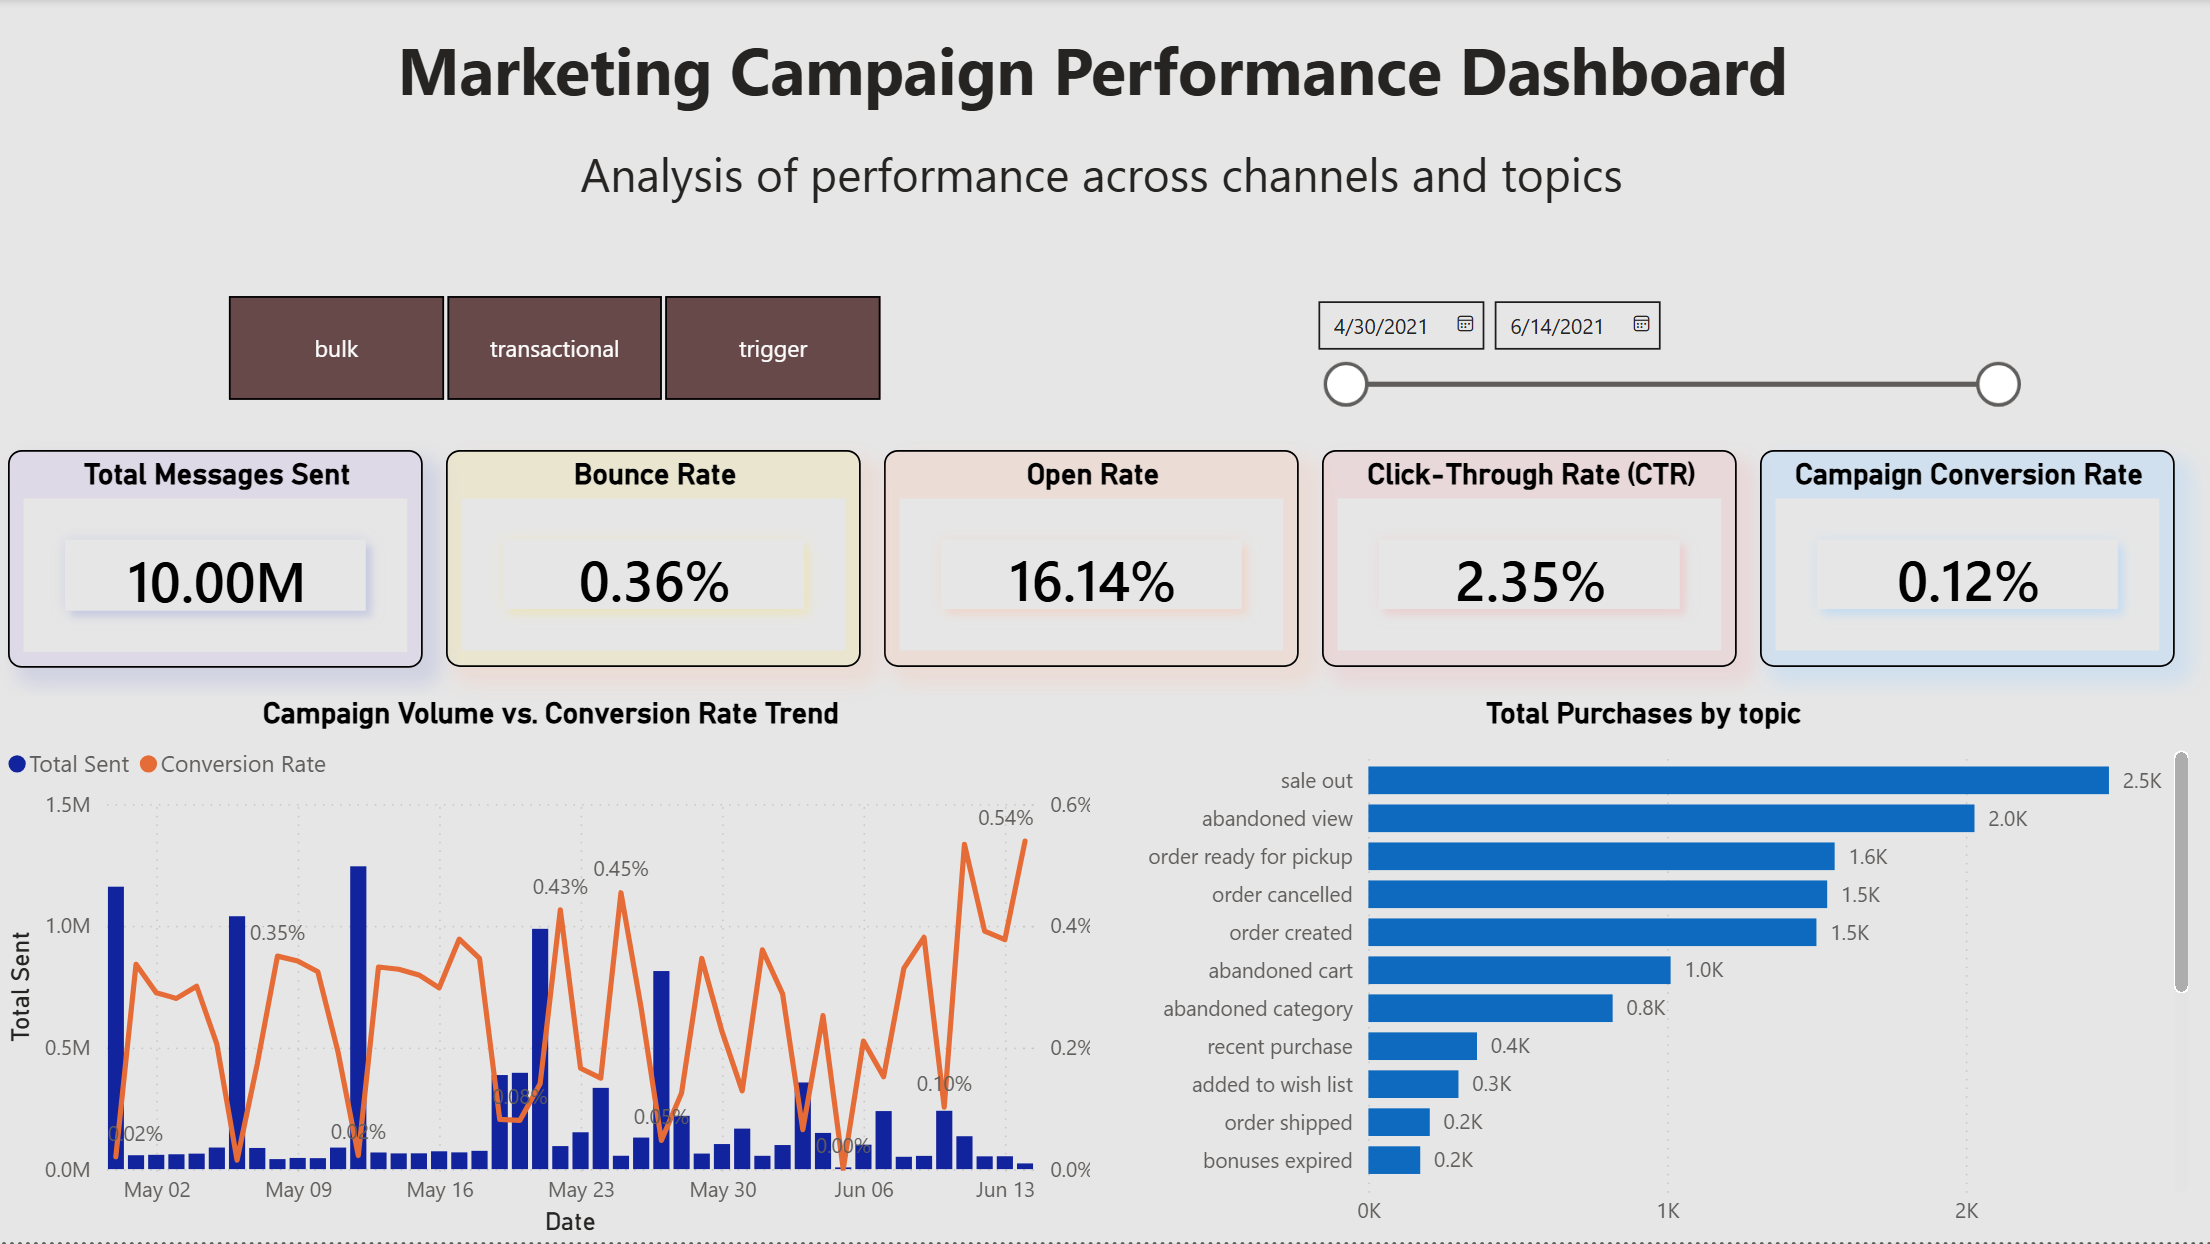

What the dashboard file says about the page in this screenshot:
{"tool":"powerbi","page":{"name":"Overview","canvas":[1280,720],"ordinal":0},"visuals":[{"type":"slicer","fields":{"Values":["Dim_Campaign_Attributes.campaign_type"]},"box":[107.6,175,427.1,74.1],"z":0},{"type":"slicer","fields":{"Values":["Dim_Date.Date"]},"box":[751.1,175,427.1,74.1],"z":1000},{"type":"cardVisual","title":"Total Messages Sent","fields":{"Data":["_Measures.Total Sent"]},"box":[6.2,261.3,240,126.1],"z":2000},{"type":"cardVisual","title":"Average Open Rate","fields":{"Data":["_Measures.Open Rate"]},"box":[513.1,261.8,240.1,125.6],"z":3000},{"type":"cardVisual","title":"Click-Through Rate (CTR)","fields":{"Data":["_Measures.CTR"]},"box":[766.6,261.8,240.1,125.6],"z":4000},{"type":"cardVisual","title":"Campaign Conversion Rate","fields":{"Data":["_Measures.Conversion Rate"]},"box":[1020,261.8,240.1,125.6],"z":5000},{"type":"lineStackedColumnComboChart","title":"Campaign Volume vs. Conversion Rate Trend","fields":{"Category":["Dim_Date.Date"],"Y":["_Measures.Total Sent"],"Y2":["_Measures.Conversion Rate"]},"box":[0,403.9,640,317.1],"z":6000},{"type":"clusteredBarChart","fields":{"Category":["Dim_Campaign_Attributes.topic"],"Y":["_Measures.Total Purchases"]},"box":[631.9,404.3,640.6,316],"z":7000},{"type":"textbox","box":[66,40.5,1153.9,121.5],"z":8000},{"type":"cardVisual","title":"Bounce Rate","fields":{"Data":["_Measures.Bounce Rate"]},"box":[259.6,261.8,240.1,125.6],"z":9000}]}

Visuals, with their boxes in screenshot pixels (x1, y1, x2, y2), scaled from the page's 1280x720 canvas onto the 2210x1244 screenshot:
slicer - Dim_Campaign_Attributes.campaign_type: {"left": 186, "top": 302, "right": 923, "bottom": 430}
slicer - Dim_Date.Date: {"left": 1297, "top": 302, "right": 2034, "bottom": 430}
"Total Messages Sent" cardVisual: {"left": 11, "top": 451, "right": 425, "bottom": 669}
"Average Open Rate" cardVisual: {"left": 886, "top": 452, "right": 1300, "bottom": 669}
"Click-Through Rate (CTR)" cardVisual: {"left": 1324, "top": 452, "right": 1738, "bottom": 669}
"Campaign Conversion Rate" cardVisual: {"left": 1761, "top": 452, "right": 2176, "bottom": 669}
"Campaign Volume vs. Conversion Rate Trend" lineStackedColumnComboChart: {"left": 0, "top": 698, "right": 1105, "bottom": 1243}
clusteredBarChart - Dim_Campaign_Attributes.topic x _Measures.Total Purchases: {"left": 1091, "top": 699, "right": 2197, "bottom": 1243}
textbox: {"left": 114, "top": 70, "right": 2106, "bottom": 280}
"Bounce Rate" cardVisual: {"left": 448, "top": 452, "right": 863, "bottom": 669}
